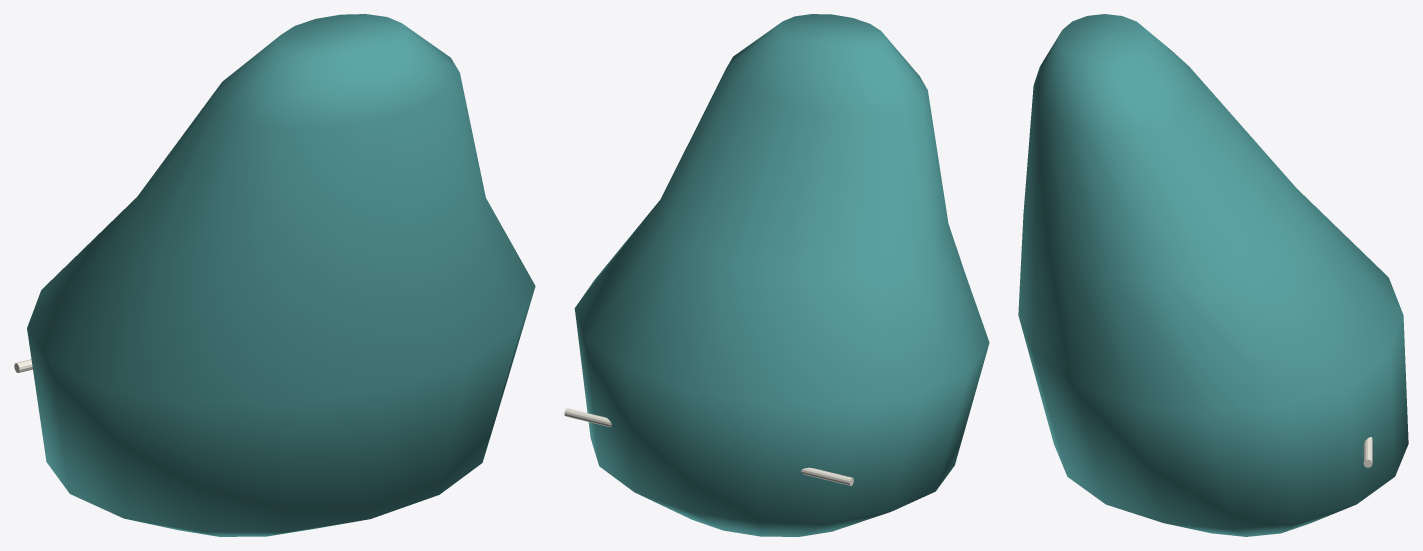
File: chair_bean_bag.glb
3 views of the same model, side by side, from view 1: azimuth 30°, elevation 25°; view 2: azimuth 150°, elevation 25°; view 3: azimuth 270°, elevation 25° (orthographic). The views are drawn at different scales.
Parts seen in each view (by area): view 1: bean_bag; view 2: bean_bag; view 3: bean_bag.
Part boxes in pixels (x1,y1,x2,y2): bean_bag: (14,14,535,536); bean_bag: (564,14,989,536); bean_bag: (1018,14,1408,536).
Size of the model in its own units: 0.92 by 0.98 by 0.77.
